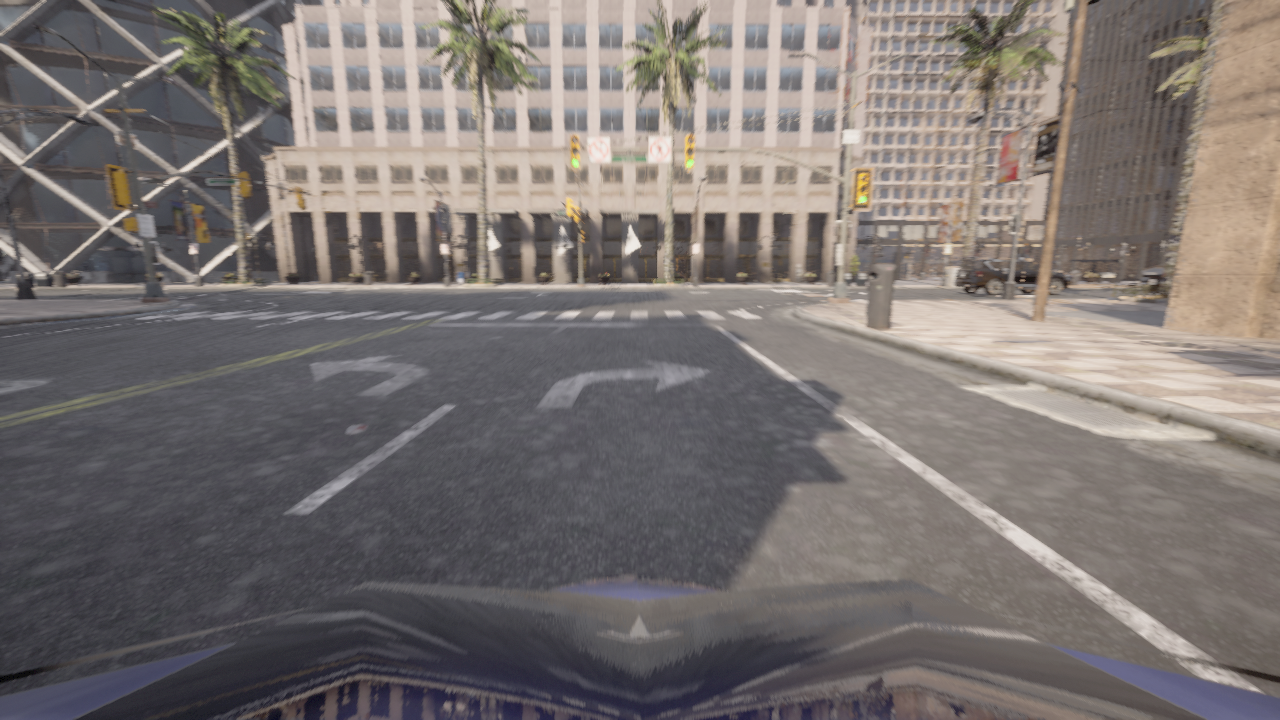cyclist: (0, 569, 1279, 719), (954, 258, 1069, 295), (1140, 266, 1163, 291), (1066, 273, 1073, 285)
